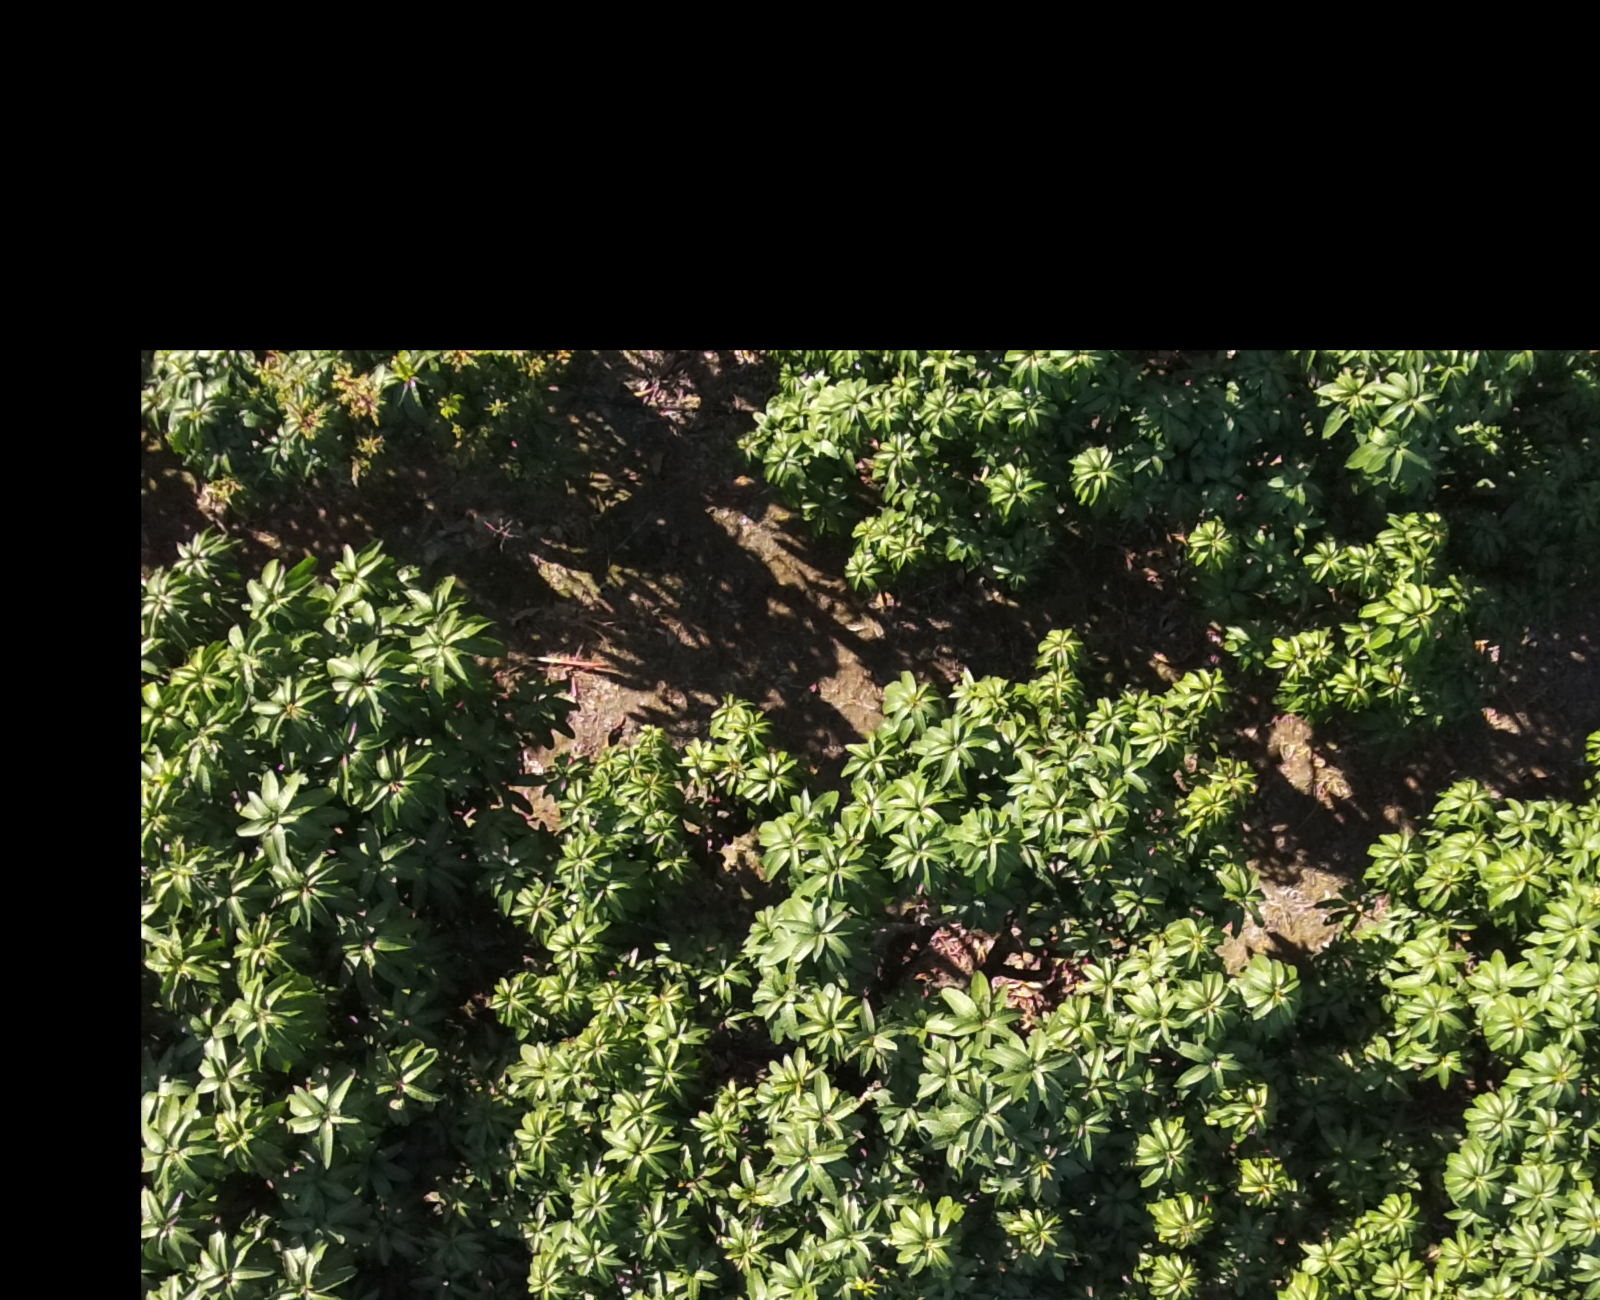flowers: (439, 350, 574, 382), (333, 363, 381, 424)
